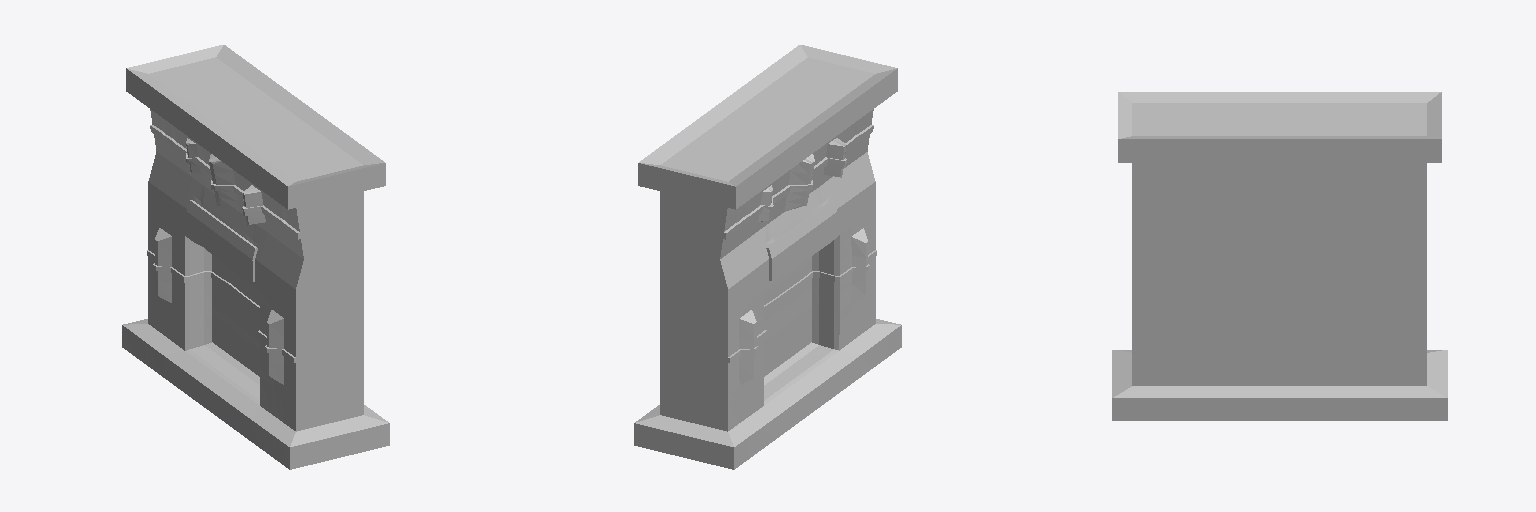
Rendered from dropdoor3.obj.
3 views of the same model, side by side, from view 1: azimuth 30°, elevation 25°; view 2: azimuth 150°, elevation 25°; view 3: azimuth 270°, elevation 25° (orthographic).
Parts seen in each view (by area): view 1: Cube.003; view 2: Cube.003; view 3: Cube.003.
Boxes of the visible parts, box(x1,y1,x2,y2) form: Cube.003: box(122, 45, 389, 469); Cube.003: box(634, 45, 901, 469); Cube.003: box(1112, 92, 1447, 420).
Size of the model in its own units: 0.7824 by 2.1 by 2.27.